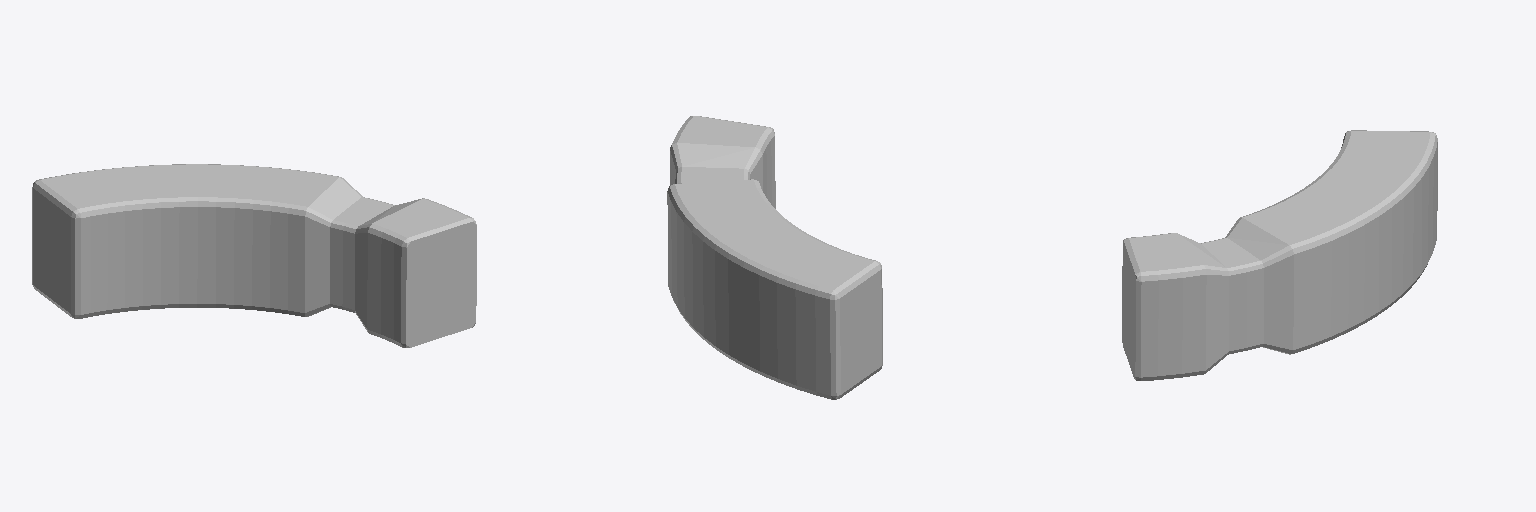
File: CircleBlock3.obj
The picture shows the model from 3 angles: view 1: azimuth 30°, elevation 25°; view 2: azimuth 150°, elevation 25°; view 3: azimuth 270°, elevation 25°; orthographic projection.
Parts seen in each view (by area): view 1: CircleBlock3; view 2: CircleBlock3; view 3: CircleBlock3.
Part boxes in pixels (x1,y1,x2,y2): CircleBlock3: (32,164,476,347); CircleBlock3: (667,116,882,399); CircleBlock3: (1122,130,1437,380).
Size of the model in its own units: 16.74 by 5.96 by 15.27.